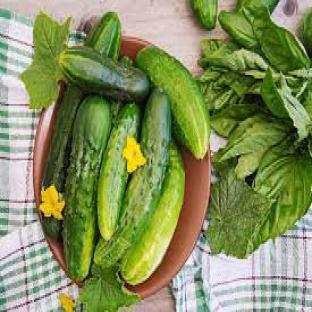Cucumber: (95, 89, 171, 267), (63, 96, 111, 281), (122, 142, 184, 284), (137, 48, 209, 158), (98, 104, 140, 240), (58, 47, 148, 102), (44, 84, 83, 192), (86, 12, 121, 61), (112, 101, 124, 126), (120, 55, 133, 66)
